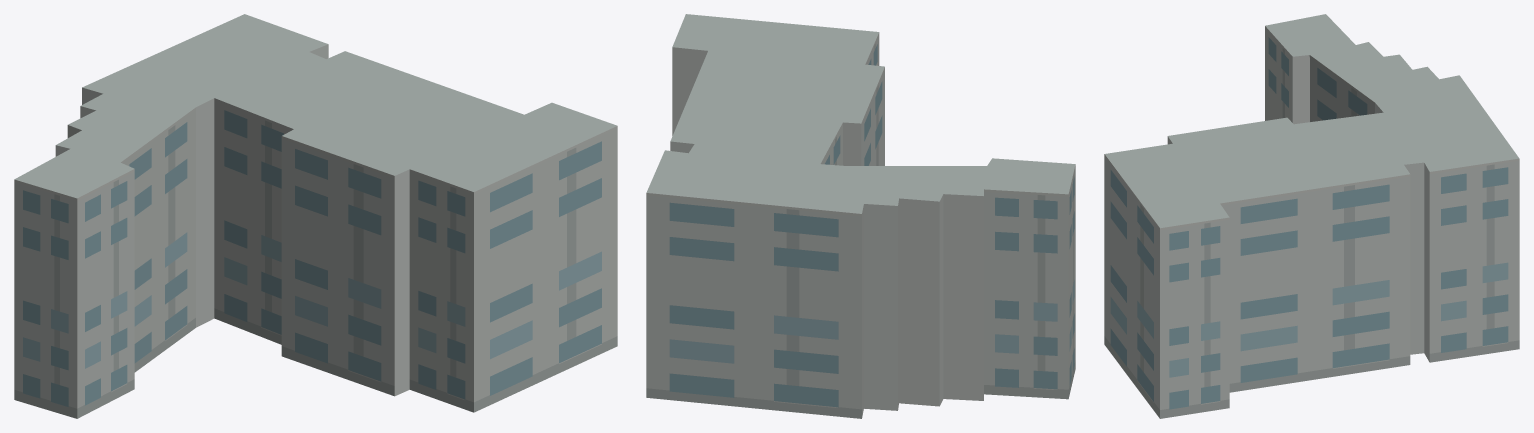
File: survey-upis-32457683.glb
3 views of the same model, side by side, from view 1: azimuth 30°, elevation 25°; view 2: azimuth 150°, elevation 25°; view 3: azimuth 270°, elevation 25° (orthographic). The views are drawn at different scales.
Parts seen in each view (by area): view 1: survey-upis-32457683.tmp; view 2: survey-upis-32457683.tmp; view 3: survey-upis-32457683.tmp.
Boxes of the visible parts, <box> form: survey-upis-32457683.tmp: <box>14,14,617,418</box>; survey-upis-32457683.tmp: <box>646,14,1075,418</box>; survey-upis-32457683.tmp: <box>1104,14,1519,418</box>.
Size of the model in its own units: 50.85 by 21.1 by 41.63.
